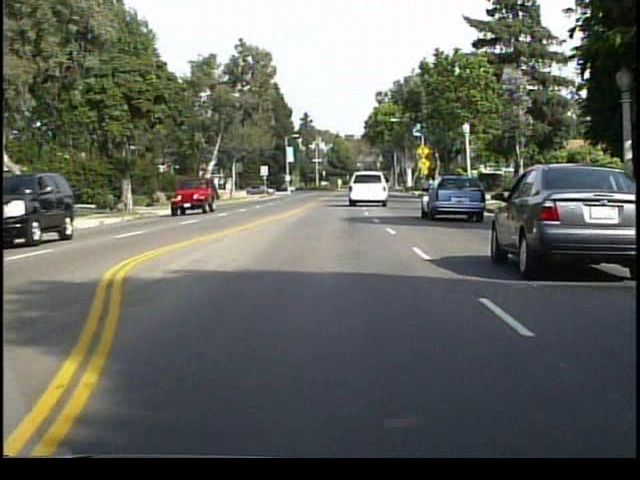car: (485, 159, 637, 285), (4, 168, 76, 243), (421, 173, 481, 219), (344, 167, 390, 206), (170, 177, 216, 216)
strada: (12, 236, 635, 438)
